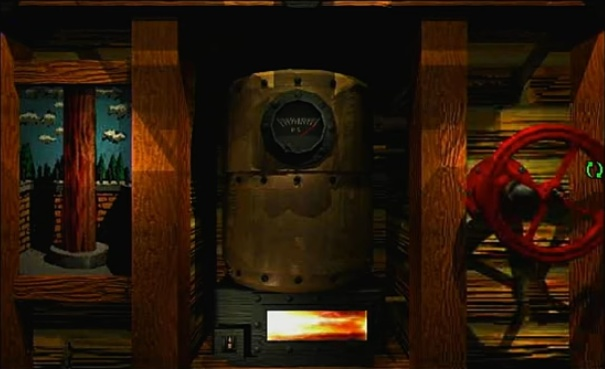Hold: (584, 158, 605, 180)
